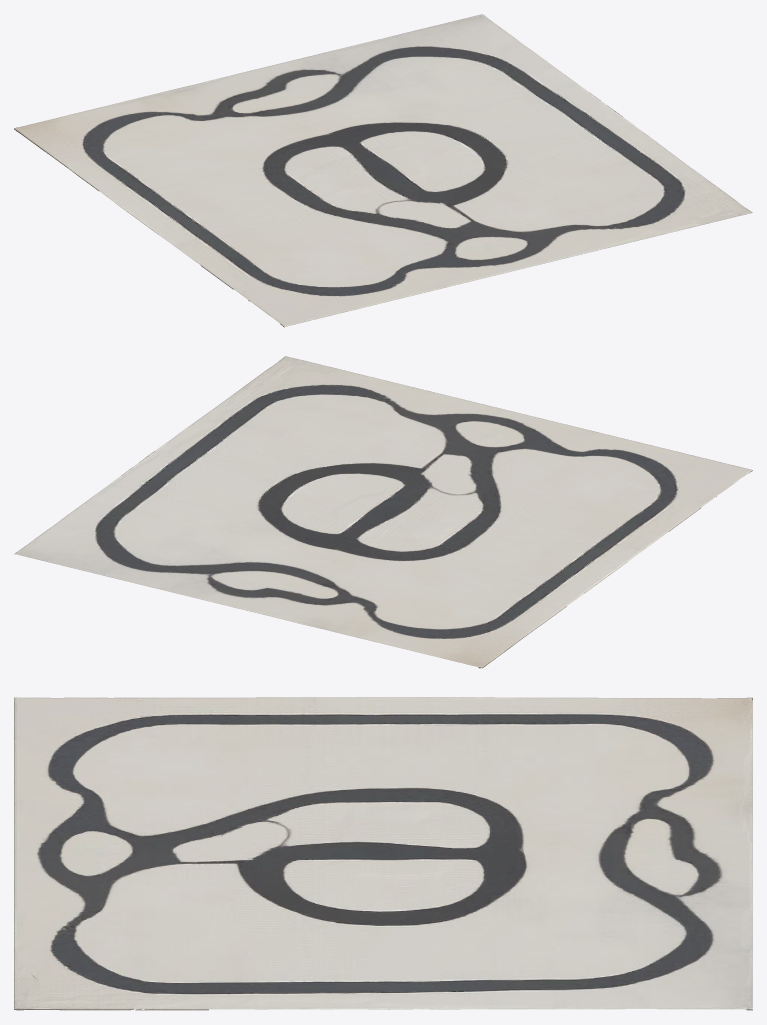
3 views of the same model, one above another, from view 1: azimuth 30°, elevation 25°; view 2: azimuth 150°, elevation 25°; view 3: azimuth 270°, elevation 25° (orthographic). The views are drawn at different scales.
Parts seen in each view (by area): view 1: world; view 2: world; view 3: world.
Boxes of the visible parts, bbox=[...] form: world: bbox=[14, 14, 752, 327]; world: bbox=[14, 356, 752, 668]; world: bbox=[14, 697, 752, 1010].
Bounding box in the file's own units: 0.9998 × 0.00488 × 1.
Materials: 1 (1 with a texture image).
